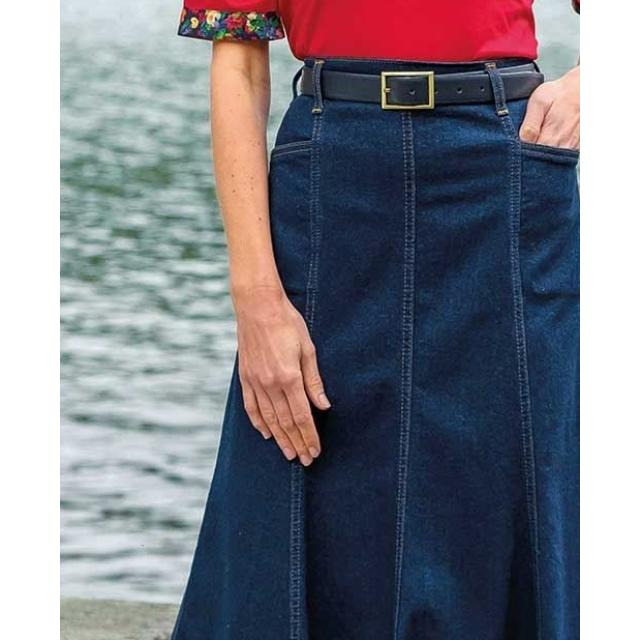denim: (304, 132, 576, 640)
